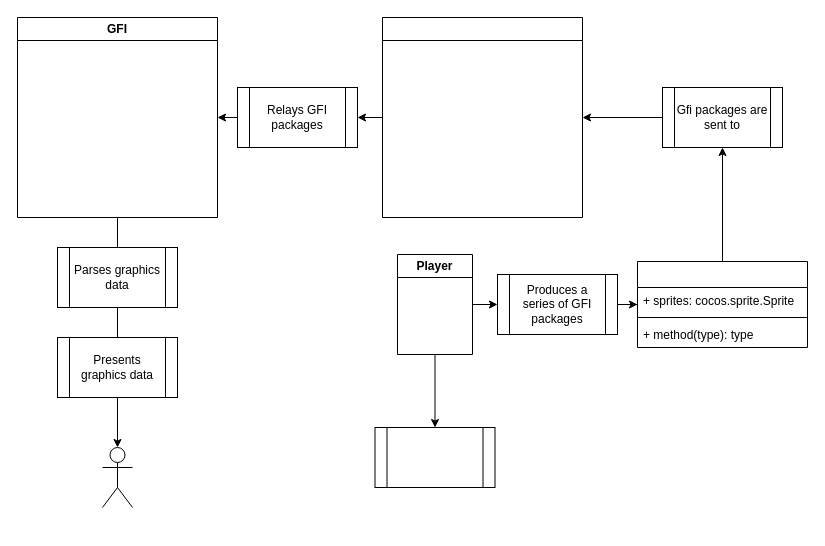
This 825x546 diagram has some shape labels left out. Here are the shapes that lost their labels. From the top down, the box of each, then its label:
(382, 16, 582, 218): Clock
(636, 260, 808, 348): GFI Package
(102, 446, 132, 508): User
(374, 426, 495, 488): Gathers GFI Packages from relevant members
